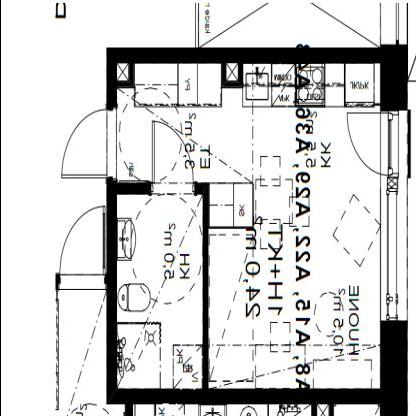door: (51, 195, 108, 285), (56, 102, 117, 184), (342, 108, 401, 182), (146, 117, 194, 203)
window: (382, 182, 403, 324)
